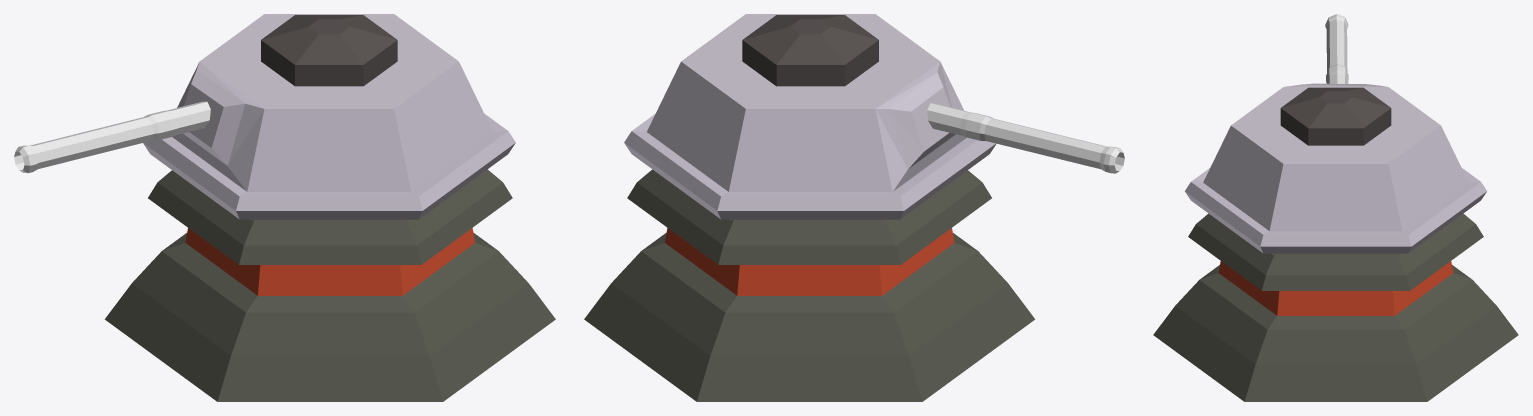
Rendered from 1_level_turell.dae.
The picture shows the model from 3 angles, left to right: view 1: azimuth 30°, elevation 25°; view 2: azimuth 150°, elevation 25°; view 3: azimuth 270°, elevation 25°; orthographic projection. The views are drawn at different scales.
Visible parts, largest first — view 1: Cylinder, Cylinder_002, Cylinder_001; view 2: Cylinder, Cylinder_002, Cylinder_001; view 3: Cylinder, Cylinder_002, Cylinder_001.
Boxes of the visible parts, bbox=[...] form: Cylinder: bbox=[104, 169, 555, 401]; Cylinder_002: bbox=[143, 14, 515, 219]; Cylinder_001: bbox=[14, 101, 210, 173]; Cylinder: bbox=[584, 169, 1035, 401]; Cylinder_002: bbox=[624, 14, 996, 219]; Cylinder_001: bbox=[927, 103, 1124, 173]; Cylinder: bbox=[1153, 213, 1518, 401]; Cylinder_002: bbox=[1185, 83, 1486, 253]; Cylinder_001: bbox=[1325, 14, 1348, 83].
Size of the model in its own units: 3.17 by 2.58 by 1.86.
